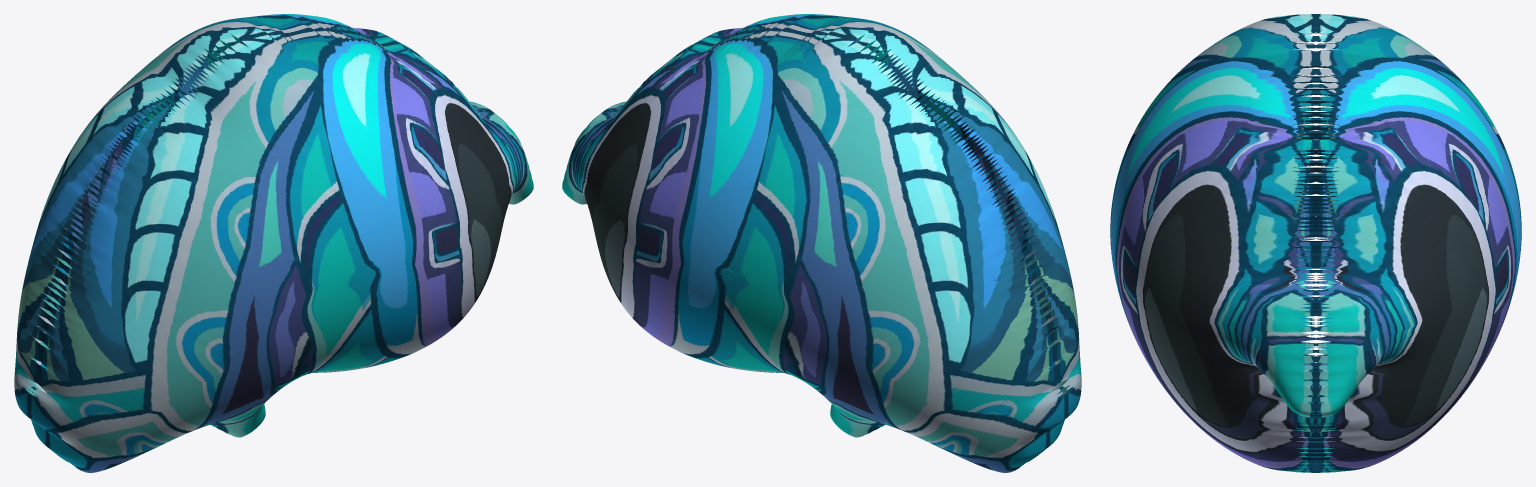
The model's file is portal_machine.glb.
The picture shows the model from 3 angles, left to right: view 1: azimuth 30°, elevation 25°; view 2: azimuth 150°, elevation 25°; view 3: azimuth 270°, elevation 25°; orthographic projection. The views are drawn at different scales.
Parts seen in each view (by area): view 1: portal_machine; view 2: portal_machine; view 3: portal_machine.
Part boxes in pixels (<box>): portal_machine: <box>14,14,533,472</box>; portal_machine: <box>562,14,1081,472</box>; portal_machine: <box>1110,14,1521,472</box>.
Bounding box in the file's own units: 0.9882 × 0.7395 × 0.6316.
Materials: 1 (1 with a texture image).
